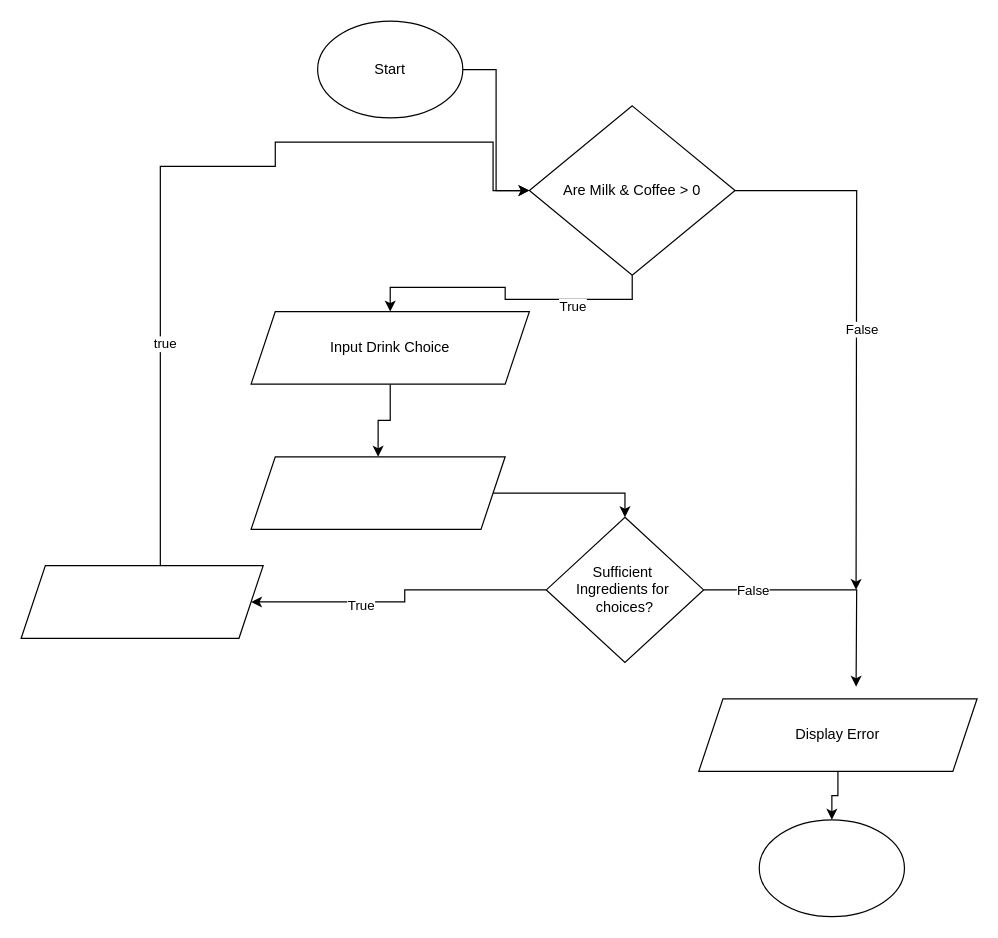
This 998x938 diagram has some shape labels left out. Here are the shapes that lost their labels. From the top down, the box of each, then its label:
(250, 456, 505, 529): Input Drink Size
(20, 564, 263, 638): Display Cost and Ingredients used Subtract Ingredients from total
(758, 819, 904, 917): End
